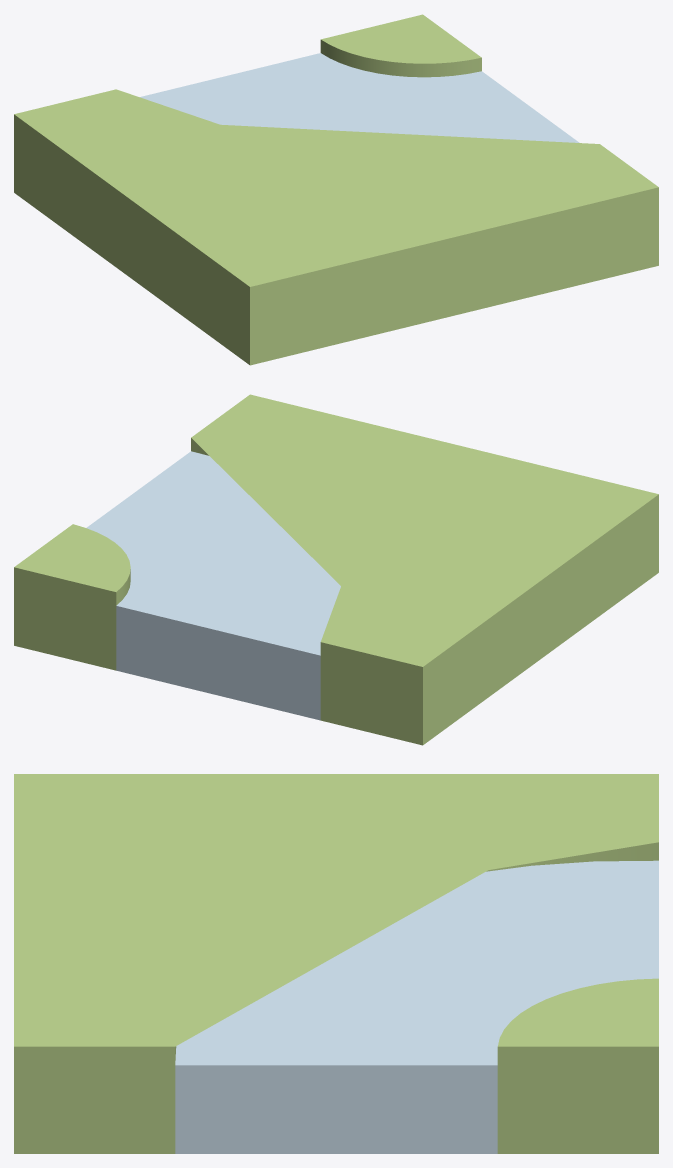
File: roadTile_185.glb
3 renders of one model, top to bottom at view 1: azimuth 30°, elevation 25°; view 2: azimuth 150°, elevation 25°; view 3: azimuth 270°, elevation 25°, orthographic. The views are drawn at different scales.
Visible parts, largest first — view 1: roadTile_185; view 2: roadTile_185; view 3: roadTile_185.
Part boxes in pixels (x1,y1,x2,y2): roadTile_185: (14, 14, 658, 365); roadTile_185: (14, 394, 658, 745); roadTile_185: (14, 774, 658, 1153).
Bounding box in the file's own units: 3 × 0.55 × 3.
